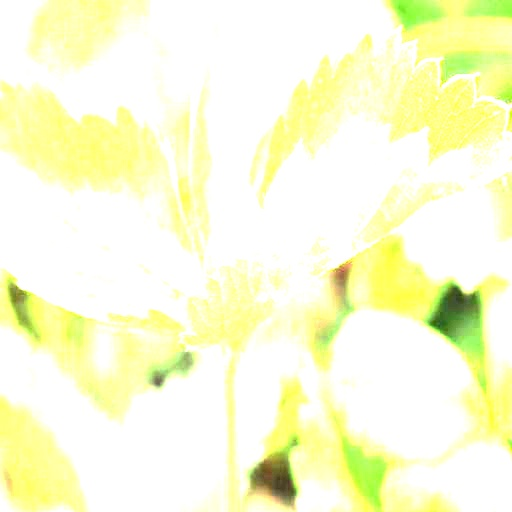Powdery Mildew Leaf: (176, 23, 511, 351)
